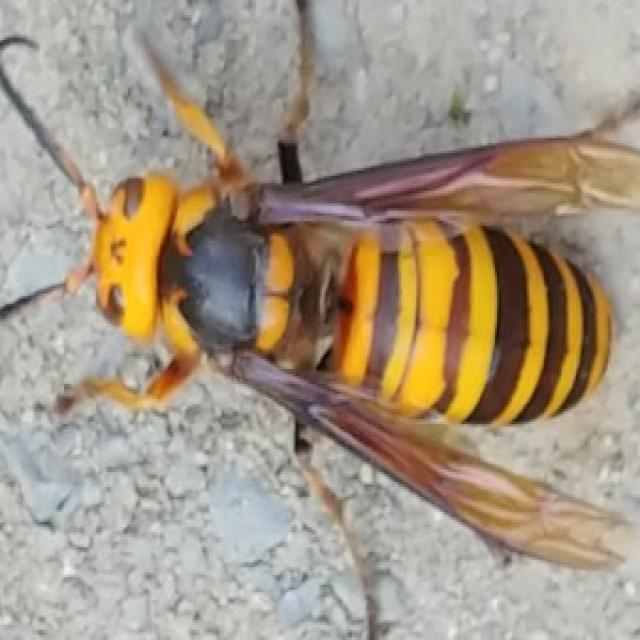Wasp: (79, 137, 622, 447)
